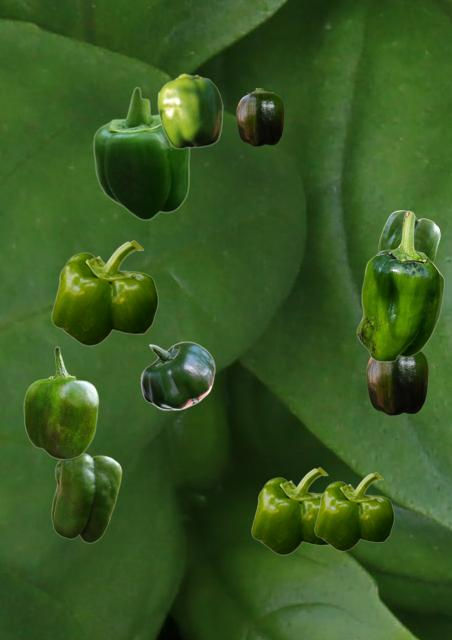bell_pepper: (356, 210, 443, 361), (92, 86, 189, 220), (51, 240, 157, 345), (23, 346, 98, 459), (251, 467, 329, 554), (51, 453, 121, 542), (314, 472, 393, 550), (140, 341, 214, 409), (157, 73, 222, 148), (366, 351, 427, 414), (378, 210, 439, 261), (236, 88, 283, 145)
